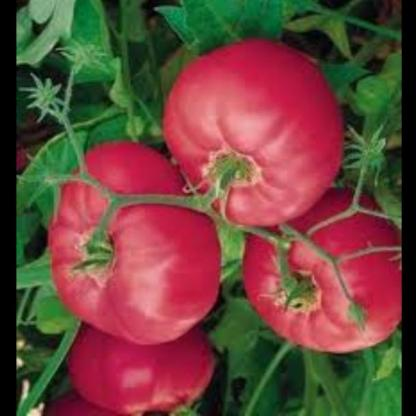tomato: (152, 32, 358, 221), (41, 135, 226, 345), (237, 186, 401, 349), (50, 323, 229, 416)
